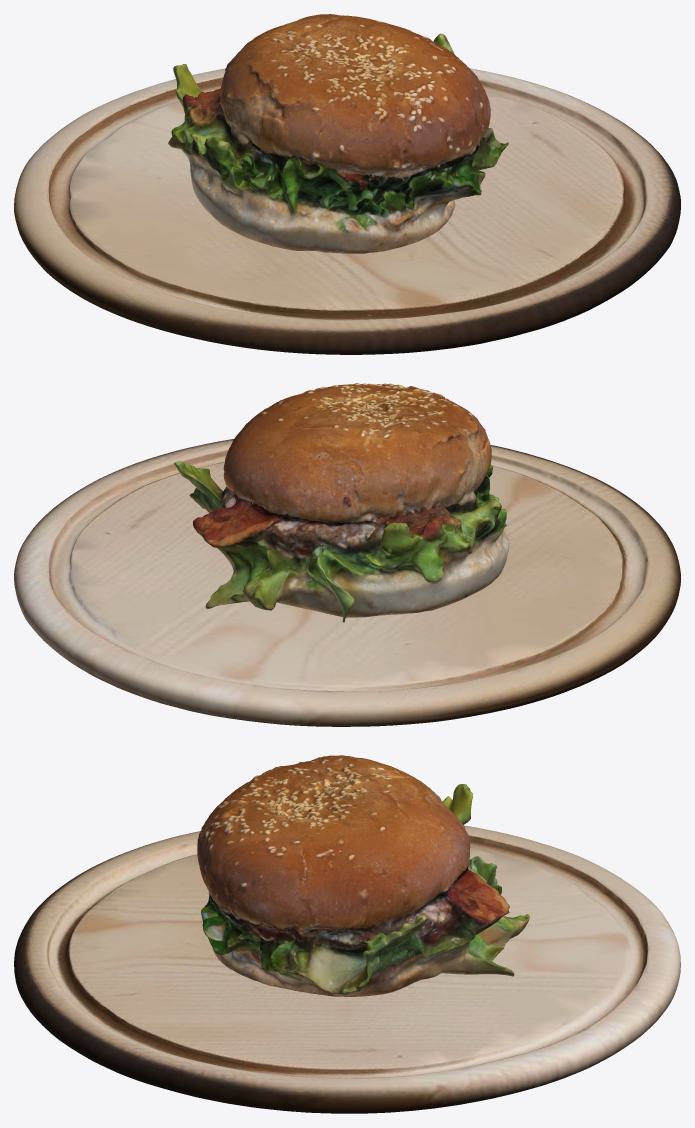
The model's file is bakan.burger.glb.
3 views of the same model, one above another, from view 1: azimuth 30°, elevation 25°; view 2: azimuth 150°, elevation 25°; view 3: azimuth 270°, elevation 25° (orthographic).
Visible parts, largest first — view 1: Submesh_0.001, 3DModel; view 2: Submesh_0.001, 3DModel; view 3: Submesh_0.001, 3DModel.
Boxes of the visible parts, <box> form: Submesh_0.001: <box>14,68,680,354</box>; 3DModel: <box>168,14,508,253</box>; Submesh_0.001: <box>14,439,680,726</box>; 3DModel: <box>174,383,509,622</box>; Submesh_0.001: <box>14,825,680,1113</box>; 3DModel: <box>197,755,529,996</box>.
Bounding box in the file's own units: 0.2887 × 0.088 × 0.2887.
Materials: 2 (2 with a texture image).
